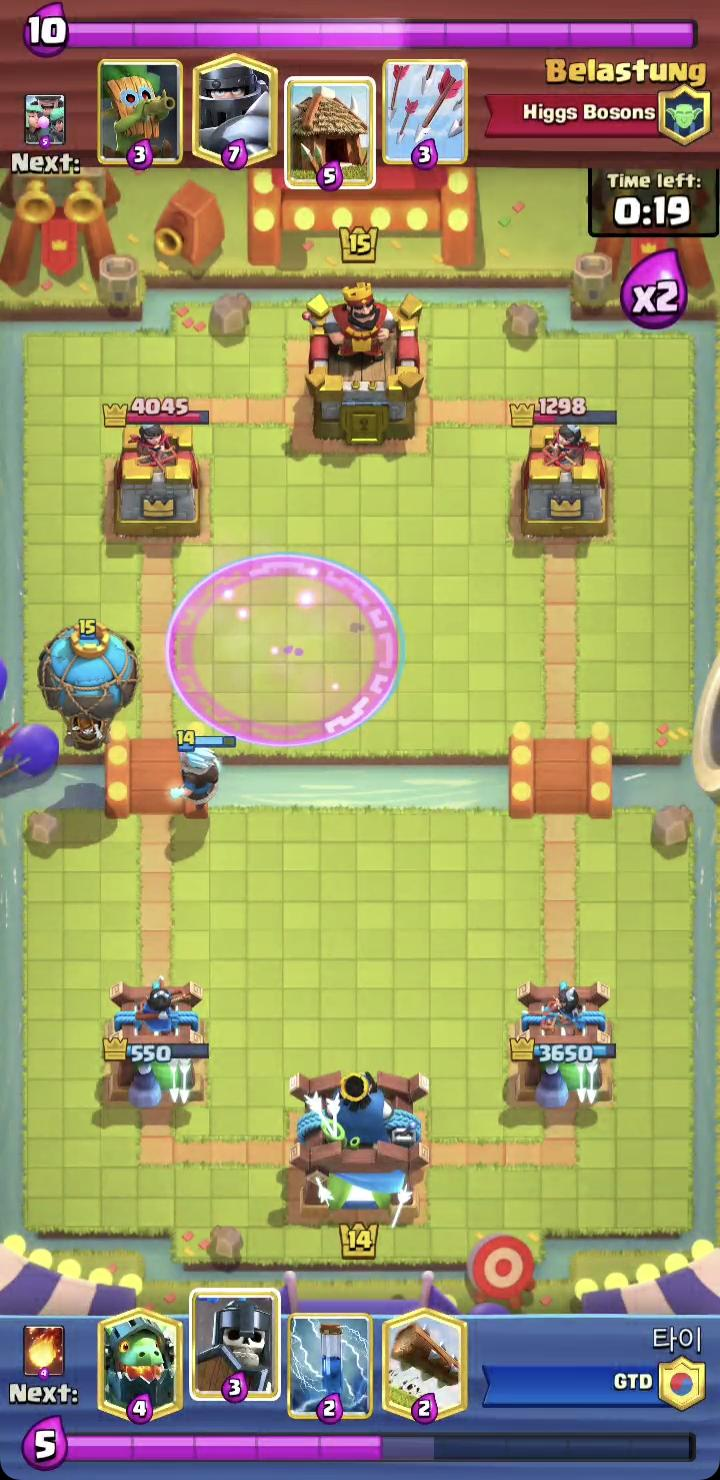ally_balloon: (37, 617, 143, 751)
ally_ice_wizard: (169, 729, 237, 812)
